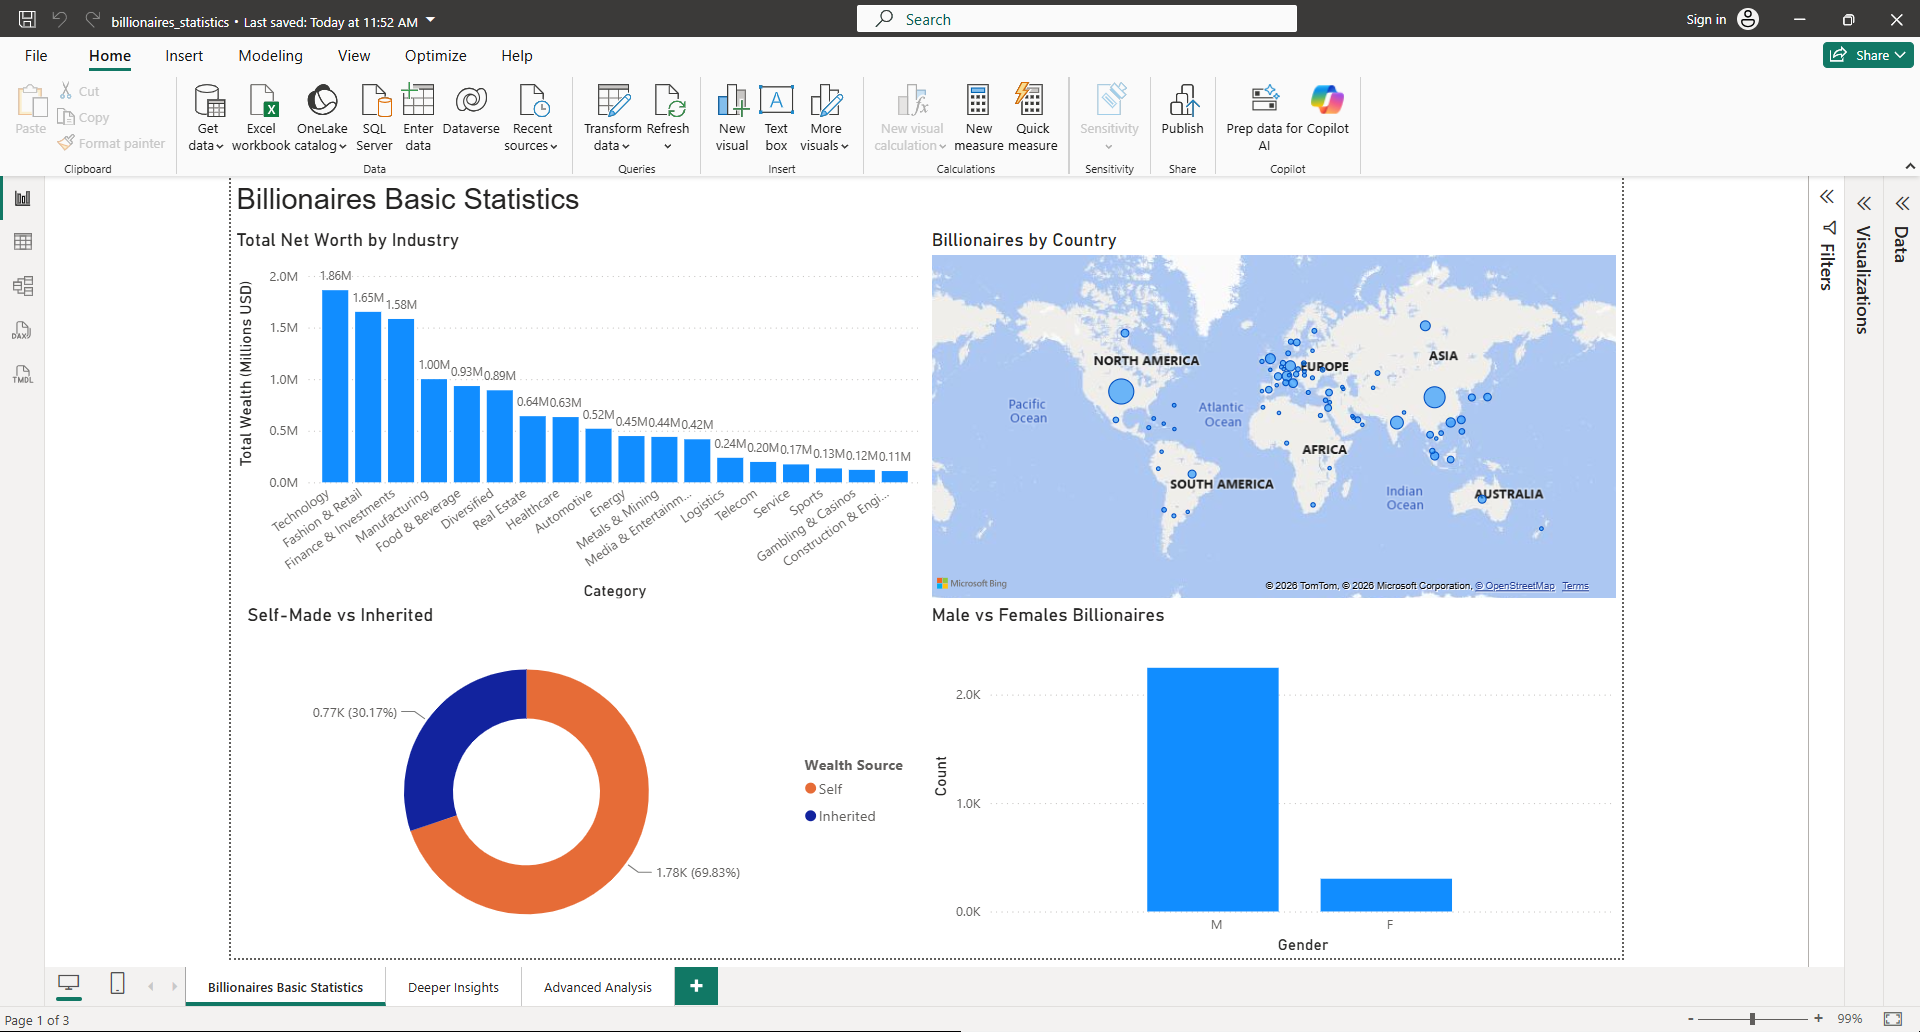

This screenshot's page, from the dashboard's own definition file:
{"tool":"powerbi","page":{"name":"Billionaires Basic Statistics","canvas":[1280,720],"ordinal":0},"visuals":[{"type":"columnChart","title":"Total Net Worth by Industry","fields":{"Category":["billionaire_statistics.category"],"Y":["Sum(billionaire_statistics.finalWorth)"]},"box":[0,48.6,639.8,345.2],"z":0},{"type":"donutChart","title":"Self-Made vs Inherited","fields":{"Category":["billionaire_statistics.selfMade"],"Y":["CountNonNull(billionaire_statistics.personName)"]},"box":[10.1,393.8,629.7,326],"z":1000},{"type":"map","title":"Billionaires by Country","fields":{"Category":["billionaire_statistics.country"],"Size":["CountNonNull(billionaire_statistics.personName)"]},"box":[639.8,48.6,639.8,345.2],"z":2000},{"type":"clusteredColumnChart","title":"Male vs Females Billionaires","fields":{"Category":["billionaire_statistics.gender"],"Y":["CountNonNull(billionaire_statistics.personName)"]},"box":[639.8,393.8,638.8,326],"z":3000},{"type":"textbox","box":[0,0,1278.6,47.6],"z":3001}]}

Visuals, with their boxes on the page's 1280x720 design canvas (x1, y1, x2, y2). These are canvas units, not pixel positions in the 1920x1032 screenshot, which may show the page scaled, cropped or inside an application window:
"Total Net Worth by Industry" columnChart: {"left": 0, "top": 49, "right": 640, "bottom": 394}
"Self-Made vs Inherited" donutChart: {"left": 10, "top": 394, "right": 640, "bottom": 720}
"Billionaires by Country" map: {"left": 640, "top": 49, "right": 1280, "bottom": 394}
"Male vs Females Billionaires" clusteredColumnChart: {"left": 640, "top": 394, "right": 1279, "bottom": 720}
textbox: {"left": 0, "top": 0, "right": 1279, "bottom": 48}
